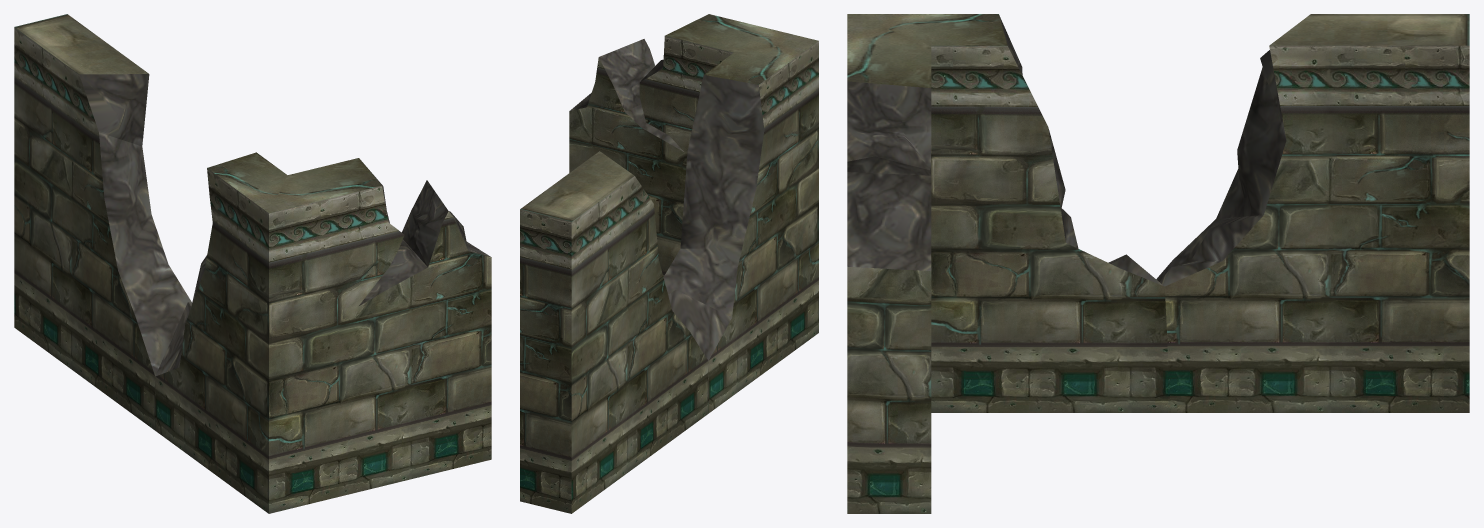
Rendered from F_waiqiang002.fbx.
3 renders of one model, left to right at view 1: azimuth 30°, elevation 25°; view 2: azimuth 150°, elevation 25°; view 3: azimuth 270°, elevation 25°, orthographic. The views are drawn at different scales.
Visible parts, largest first — view 1: F_waiqiang002; view 2: F_waiqiang002; view 3: F_waiqiang002.
Boxes of the visible parts, x1=… form: F_waiqiang002: x1=14, y1=14, x2=491, y2=513; F_waiqiang002: x1=520, y1=14, x2=818, y2=513; F_waiqiang002: x1=847, y1=14, x2=1469, y2=513.
Bounding box in the file's own units: 253 × 327 × 501.
